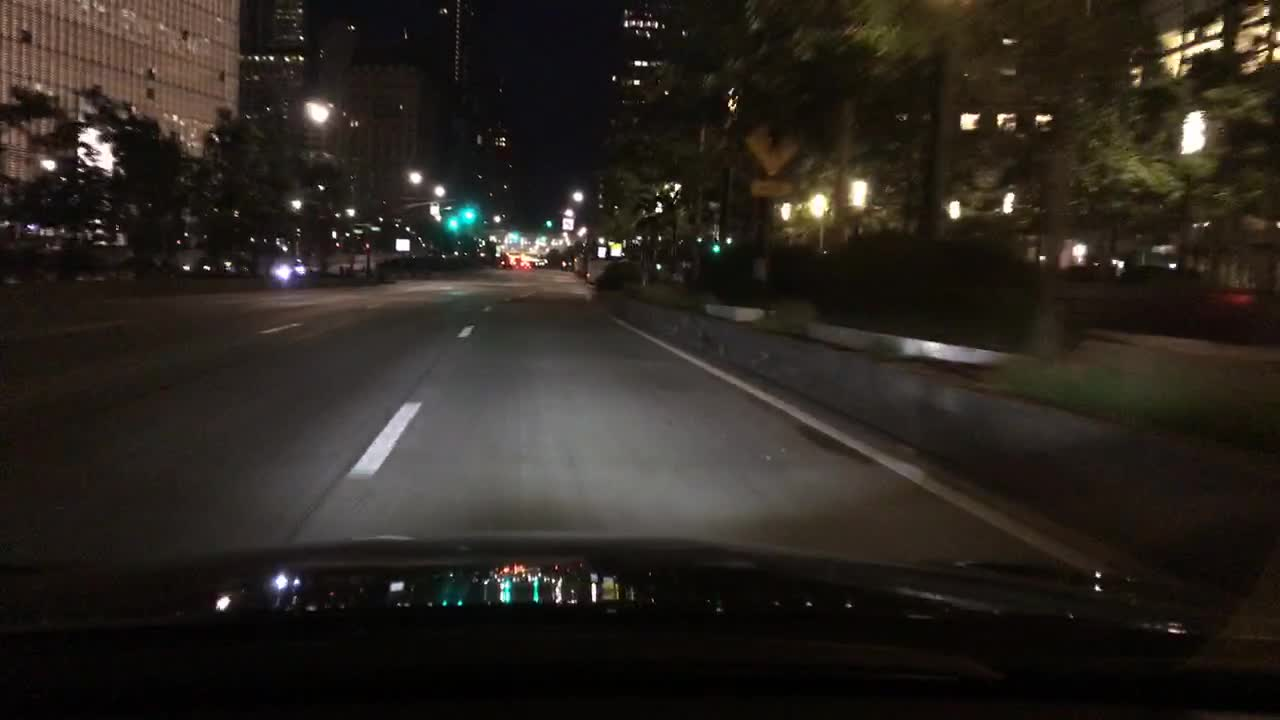car: (0, 257, 46, 281), (181, 255, 226, 276), (45, 259, 89, 278), (89, 265, 135, 280), (223, 259, 265, 275), (130, 262, 164, 279), (159, 261, 186, 278), (559, 258, 573, 271)
traffic light: (448, 215, 457, 230), (711, 239, 719, 255), (465, 207, 474, 221), (510, 230, 517, 239), (546, 220, 552, 228)
traffic sign: (745, 116, 799, 173), (748, 180, 793, 196), (611, 242, 622, 256), (597, 246, 607, 257), (563, 218, 572, 229)
